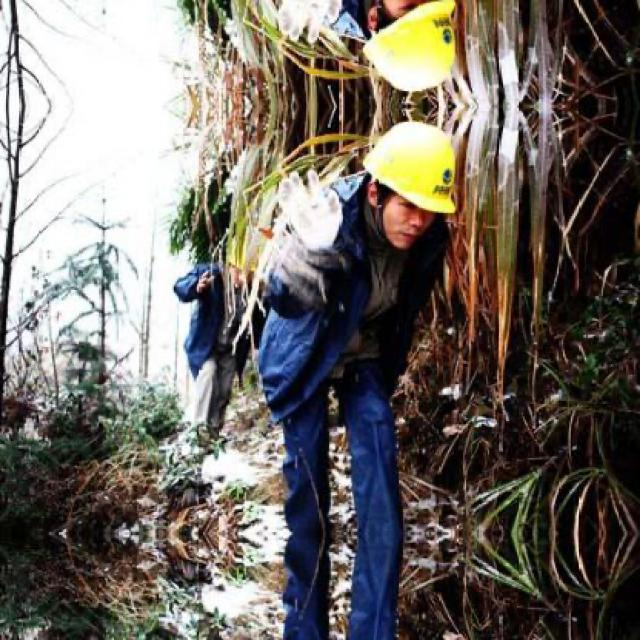helmet: (351, 108, 471, 261), (350, 0, 471, 106), (220, 236, 258, 290)
